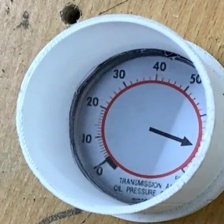gauge: (68, 51, 204, 206)
